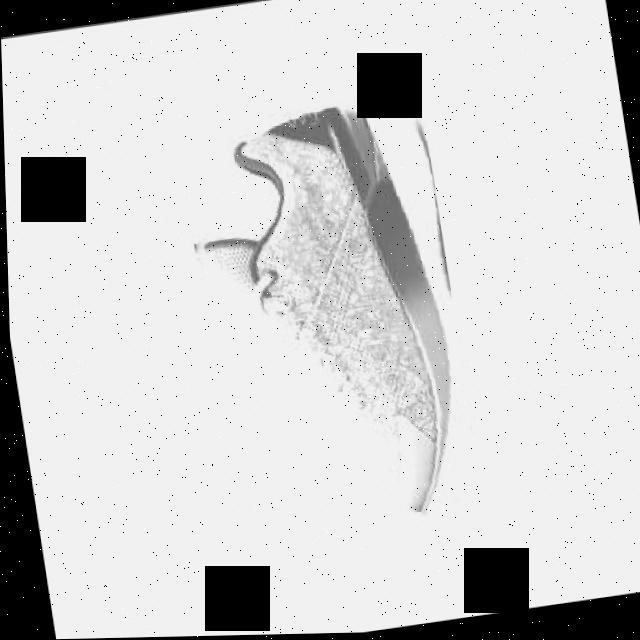shoe: (174, 89, 477, 540), (193, 90, 472, 522)
